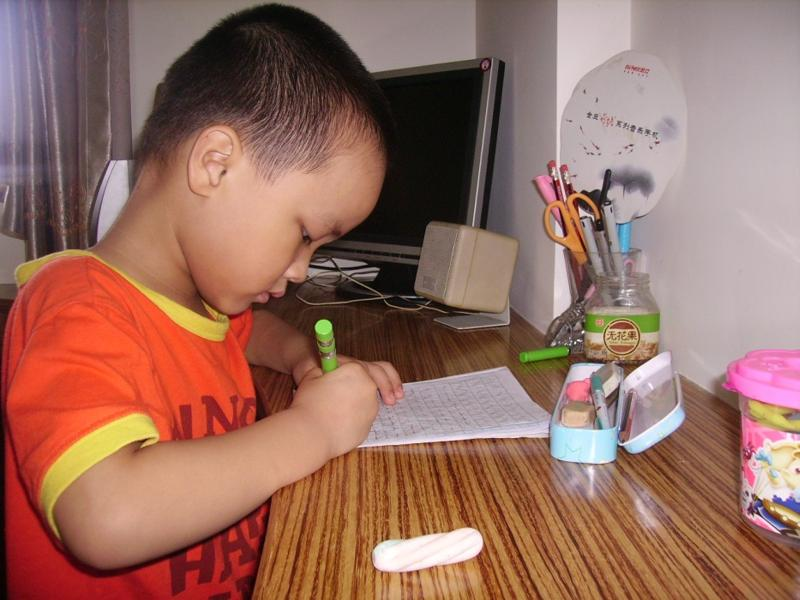person: (2, 7, 405, 600)
